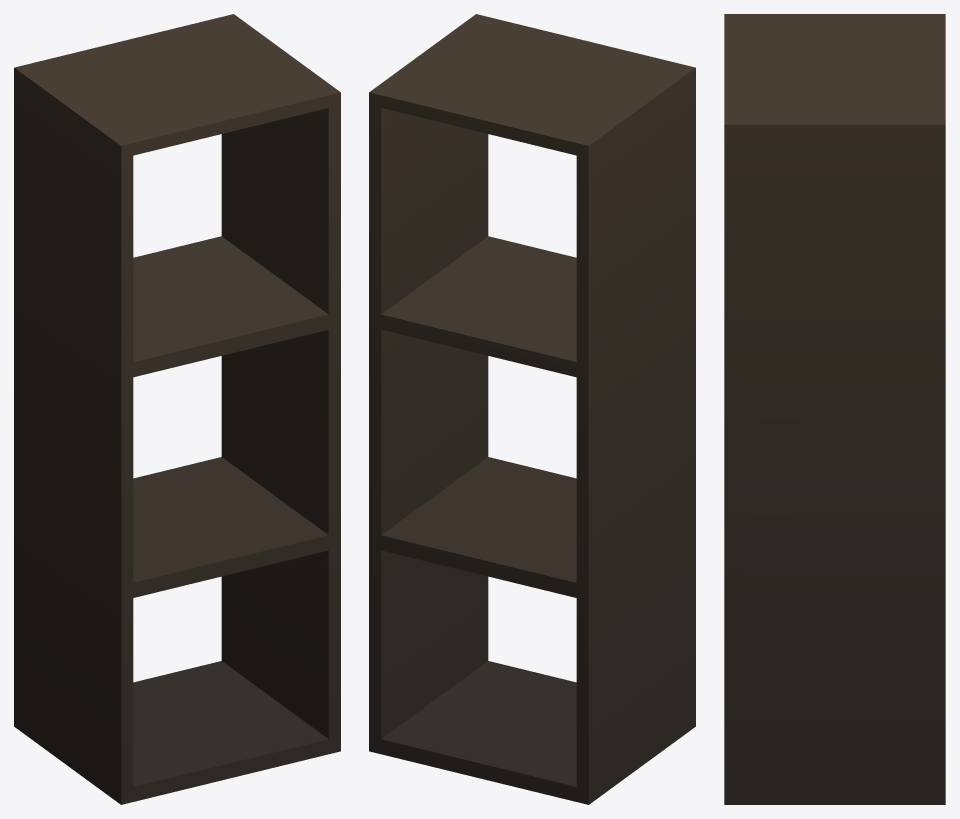
The model's file is Shelving_3Tier_Column_Brown.fbx.
3 renders of one model, left to right at view 1: azimuth 30°, elevation 25°; view 2: azimuth 150°, elevation 25°; view 3: azimuth 270°, elevation 25°, orthographic. The views are drawn at different scales.
Parts seen in each view (by area): view 1: Shelving_3Tier_Column_Brown; view 2: Shelving_3Tier_Column_Brown; view 3: Shelving_3Tier_Column_Brown.
Part boxes in pixels (x1,y1,x2,y2): Shelving_3Tier_Column_Brown: (14, 14, 340, 804); Shelving_3Tier_Column_Brown: (369, 14, 695, 804); Shelving_3Tier_Column_Brown: (724, 14, 945, 804).
Size of the model in its own units: 41.8 by 120 by 35.28.
